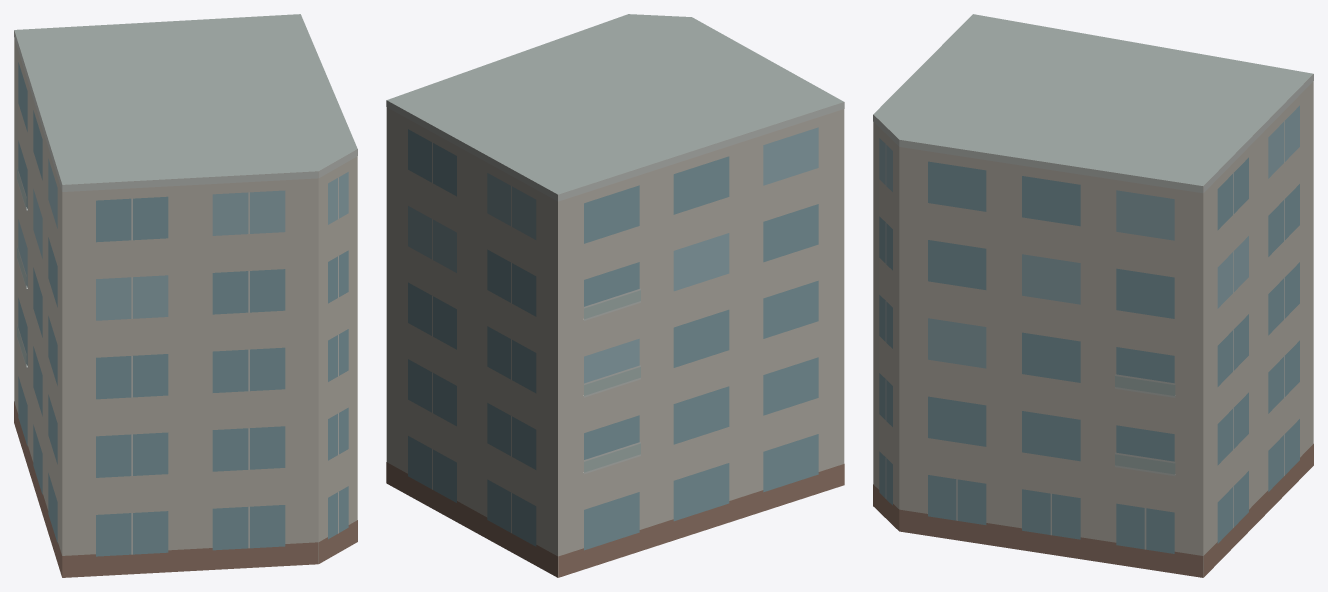
File: survey-upis-32528193.glb
3 views of the same model, side by side, from view 1: azimuth 30°, elevation 25°; view 2: azimuth 150°, elevation 25°; view 3: azimuth 270°, elevation 25° (orthographic). The views are drawn at different scales.
Parts seen in each view (by area): view 1: survey-upis-32528193.tmp; view 2: survey-upis-32528193.tmp; view 3: survey-upis-32528193.tmp.
Part boxes in pixels (box(x1,y1,x2,y2)): survey-upis-32528193.tmp: box(14, 14, 357, 577); survey-upis-32528193.tmp: box(386, 14, 844, 577); survey-upis-32528193.tmp: box(873, 14, 1313, 577).
Bounding box in the file's own units: 12.64 × 13.4 × 13.67.
